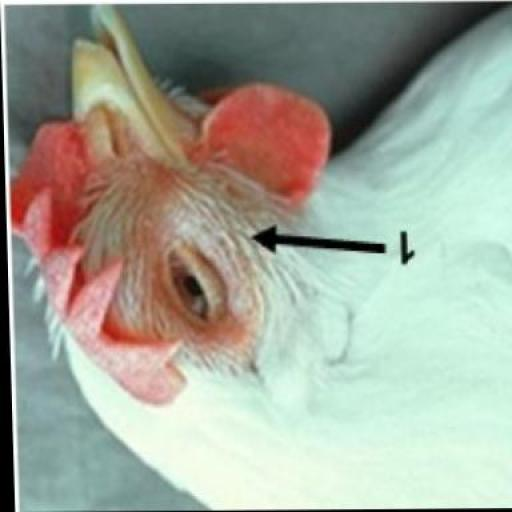disease: (105, 162, 273, 378)
